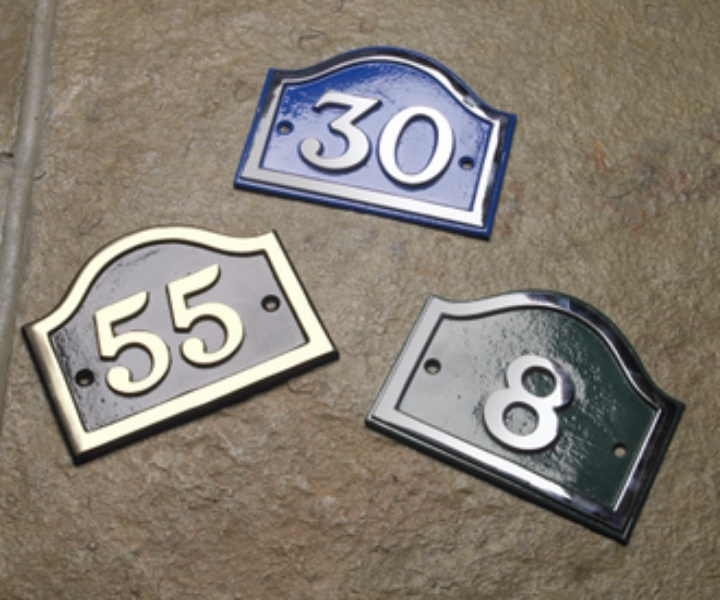text: (97, 258, 112, 404), (113, 258, 128, 404), (129, 258, 144, 404), (145, 258, 160, 404), (161, 258, 176, 404), (177, 258, 192, 404), (193, 258, 208, 404), (209, 258, 224, 404), (225, 258, 240, 404), (241, 258, 256, 404), (529, 343, 544, 467), (545, 343, 560, 467), (561, 343, 576, 467), (337, 86, 352, 199), (353, 86, 368, 199), (369, 86, 384, 199), (385, 86, 400, 199), (401, 86, 416, 199), (417, 86, 432, 199), (433, 86, 448, 199), (577, 343, 590, 467), (449, 86, 463, 199), (86, 258, 96, 404), (326, 86, 336, 199), (520, 343, 528, 467)
